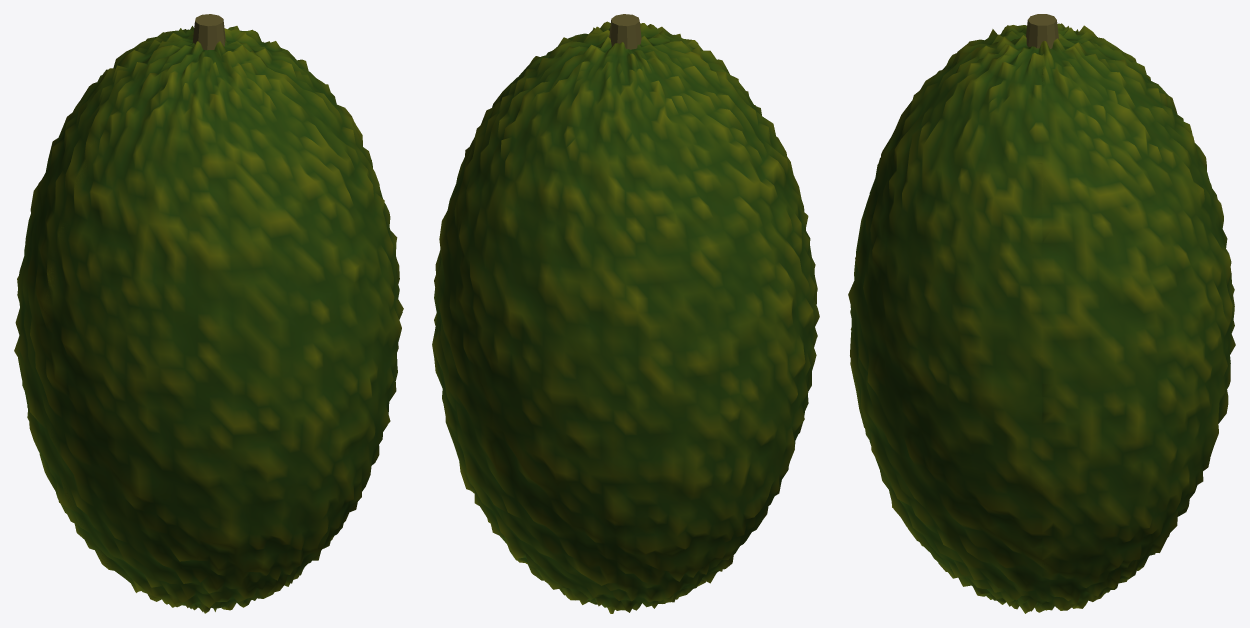
The model's file is jacque.glb.
The picture shows the model from 3 angles, left to right: view 1: azimuth 30°, elevation 25°; view 2: azimuth 150°, elevation 25°; view 3: azimuth 270°, elevation 25°; orthographic projection.
Parts seen in each view (by area): view 1: entier_peau, moitie_B_peau, moitie_A_peau, entier_extra0; view 2: entier_peau, moitie_A_peau, moitie_B_peau, entier_extra0; view 3: entier_peau, moitie_A_peau, moitie_B_peau, entier_extra0.
Boxes of the visible parts, bbox=[...] form: entier_peau: bbox=[14, 26, 403, 613]; moitie_B_peau: bbox=[43, 31, 401, 612]; moitie_A_peau: bbox=[15, 26, 318, 592]; entier_extra0: bbox=[192, 14, 225, 50]; entier_peau: bbox=[432, 21, 819, 613]; moitie_A_peau: bbox=[434, 32, 791, 610]; moitie_B_peau: bbox=[534, 22, 819, 584]; entier_extra0: bbox=[609, 14, 641, 49]; entier_peau: bbox=[848, 23, 1235, 613]; moitie_A_peau: bbox=[1042, 24, 1234, 610]; moitie_B_peau: bbox=[848, 25, 1042, 612]; entier_extra0: bbox=[1026, 14, 1058, 48].
Bounding box in the file's own units: 1.28 × 2.1 × 1.28.
